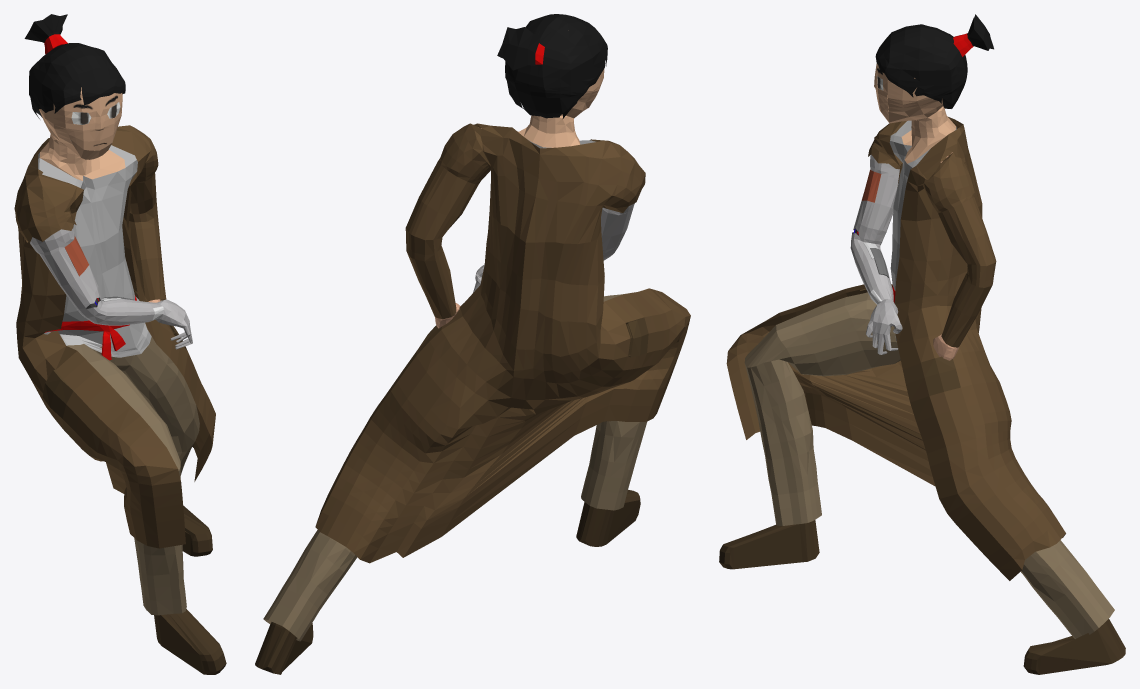
File: One_RL_000016.obj
3 views of the same model, side by side, from view 1: azimuth 30°, elevation 25°; view 2: azimuth 150°, elevation 25°; view 3: azimuth 270°, elevation 25° (orthographic). The views are drawn at different scales.
Visible parts, largest first — view 1: Hair_Cube.004; view 2: Hair_Cube.004; view 3: Hair_Cube.004.
Part boxes in pixels (box(x1,y1,x2,y2)): Hair_Cube.004: box(14, 14, 226, 674); Hair_Cube.004: box(255, 14, 690, 674); Hair_Cube.004: box(719, 14, 1125, 674).
Bounding box in the file's own units: 1.56 × 3.48 × 2.25.
